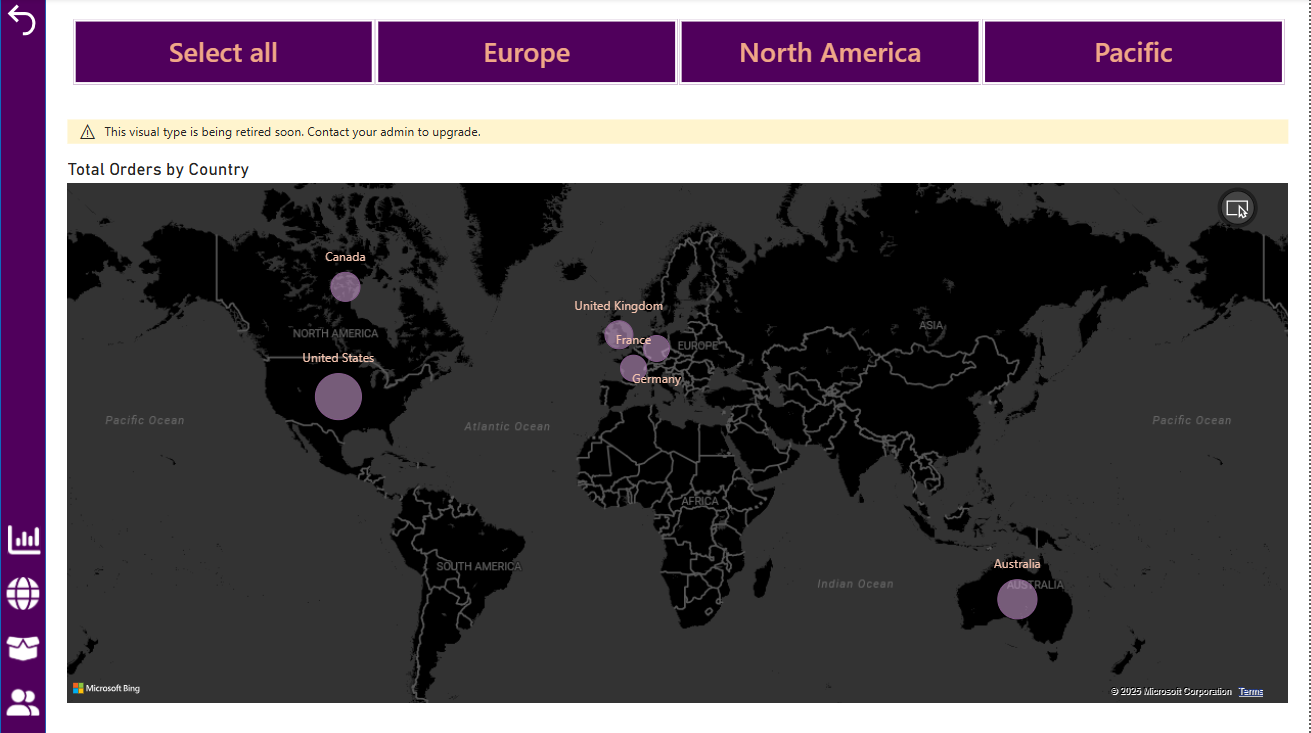

The dashboard page shown, as its layout file describes it:
{"tool":"powerbi","page":{"name":"Map","canvas":[1280,720],"ordinal":1},"visuals":[{"type":"shape","box":[0,0,45,720],"z":0},{"type":"actionButton","box":[4.2,509.9,45.2,40.4],"z":1000},{"type":"map","fields":{"Size":["Measure Table.Total Orders"],"Category":["Territory Lookup.Country"]},"box":[61.1,118.6,1204.5,576],"z":2000},{"type":"actionButton","box":[2.4,616.3,45.2,40.4],"z":3000},{"type":"slicer","fields":{"Values":["Territory Lookup.Continent"]},"box":[45.2,13.5,1235.1,78.3],"z":4000},{"type":"actionButton","box":[2.4,668.9,45.2,40.4],"z":5000},{"type":"actionButton","box":[2.4,562.5,45.2,40.4],"z":6000},{"type":"actionButton","box":[1.2,1.2,45.2,40.4],"z":7000}]}

Visuals, with their boxes on the page's 1280x720 design canvas (x1, y1, x2, y2). These are canvas units, not pixel positions in the 1311x733 screenshot, which may show the page scaled, cropped or inside an application window:
shape: (x1=0, y1=0, x2=45, y2=720)
actionButton: (x1=4, y1=510, x2=49, y2=550)
map - Measure Table.Total Orders x Territory Lookup.Country: (x1=61, y1=119, x2=1266, y2=695)
actionButton: (x1=2, y1=616, x2=48, y2=657)
slicer - Territory Lookup.Continent: (x1=45, y1=14, x2=1280, y2=92)
actionButton: (x1=2, y1=669, x2=48, y2=709)
actionButton: (x1=2, y1=562, x2=48, y2=603)
actionButton: (x1=1, y1=1, x2=46, y2=42)
